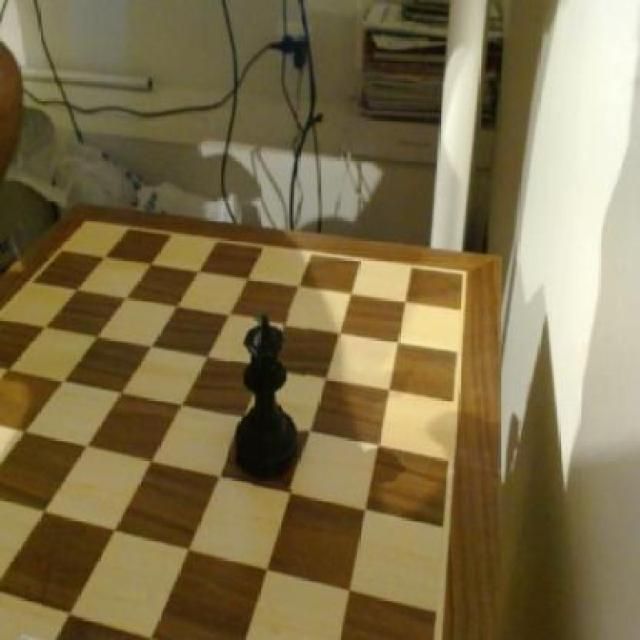black-pawn: (229, 312, 307, 490)
